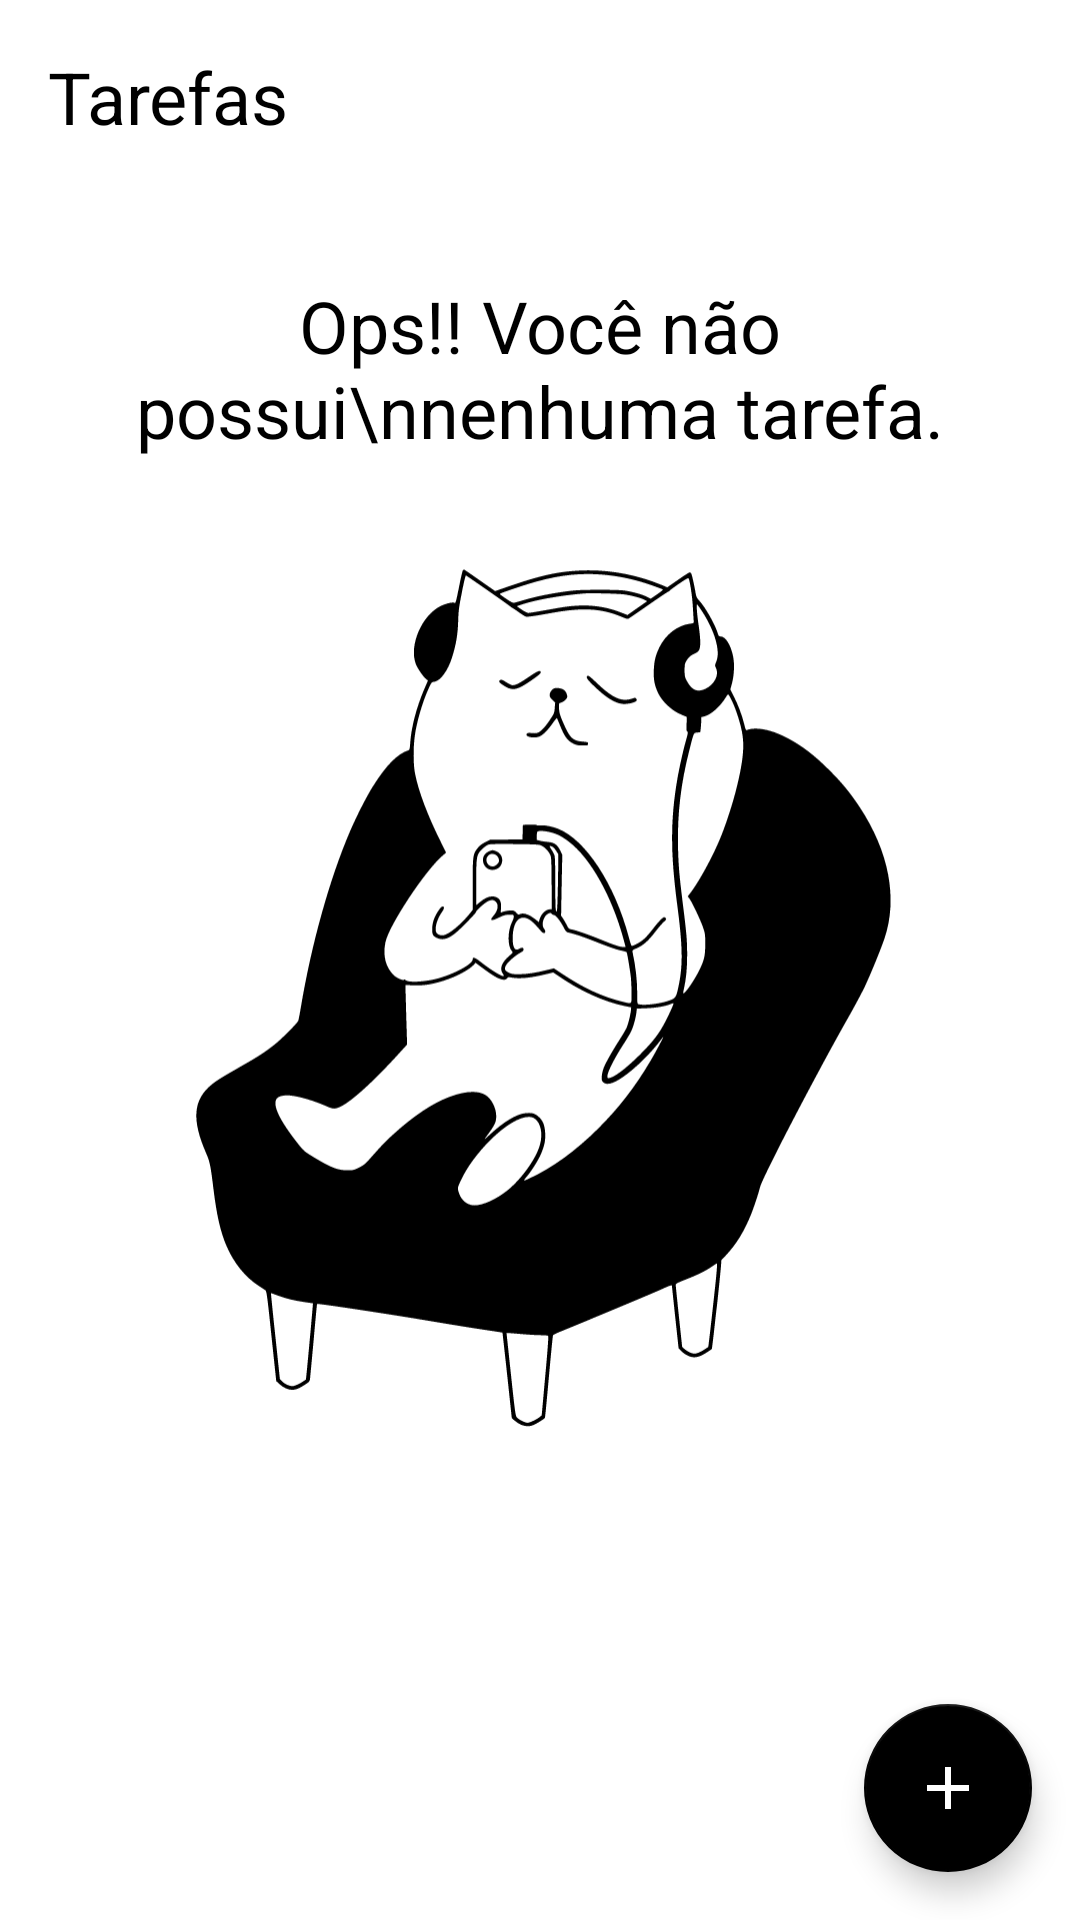

Where icons sit on this 1080x1920 app screen, as (x1, y1, x2, y2):
Nova Tarefa: (864, 1704, 1032, 1872)
